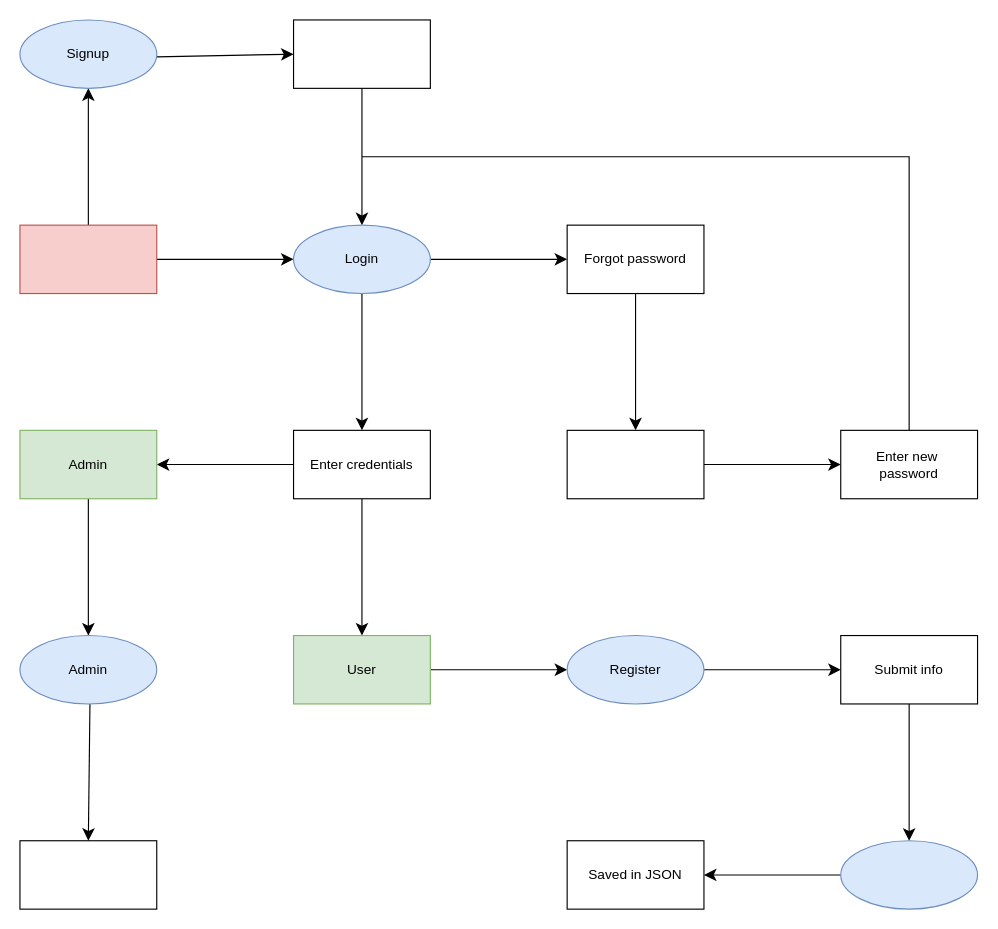
Some shapes in this 998 by 929 pixel diagram are drawn without their labels. Here are the shapes that lost their labels. From the top down, the centre of each, then its label:
At point 361,53: "Account created".
At point 88,259: "VISITOR".
At point 635,464: "Enter email".
At point 88,874: "View all submissions".
At point 909,874: "Info".
